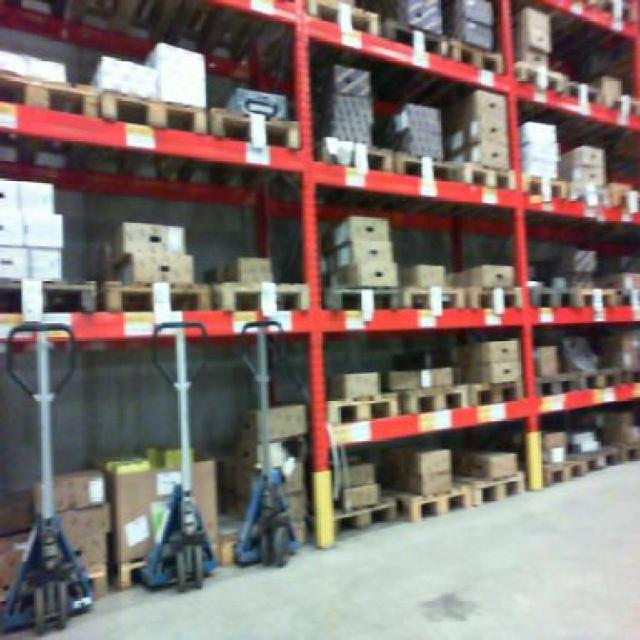pallet: (0, 80, 311, 147), (329, 127, 519, 188), (324, 274, 520, 318), (317, 386, 483, 426), (96, 273, 219, 320), (217, 266, 316, 322), (516, 52, 576, 94), (327, 505, 406, 535), (530, 458, 597, 486), (408, 492, 483, 516), (520, 174, 574, 198)
